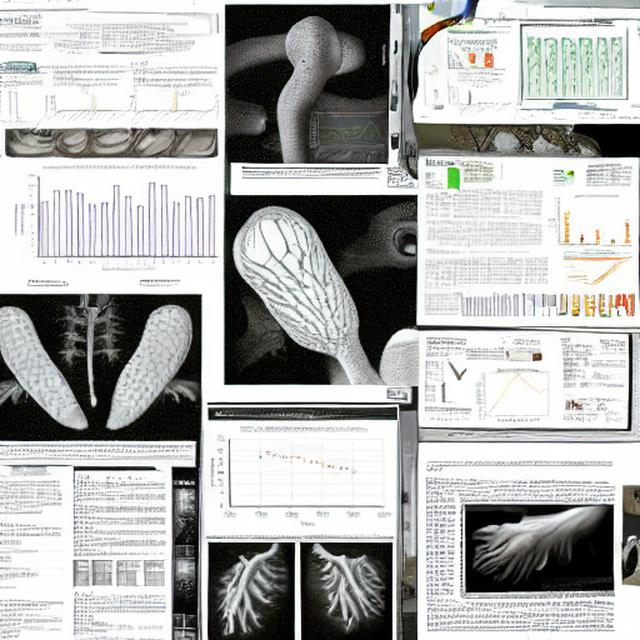Graph: (16, 161, 221, 276), (206, 422, 394, 531), (544, 192, 638, 253), (474, 363, 557, 425), (308, 109, 389, 164), (43, 76, 128, 126), (449, 75, 510, 119), (452, 285, 521, 322)
